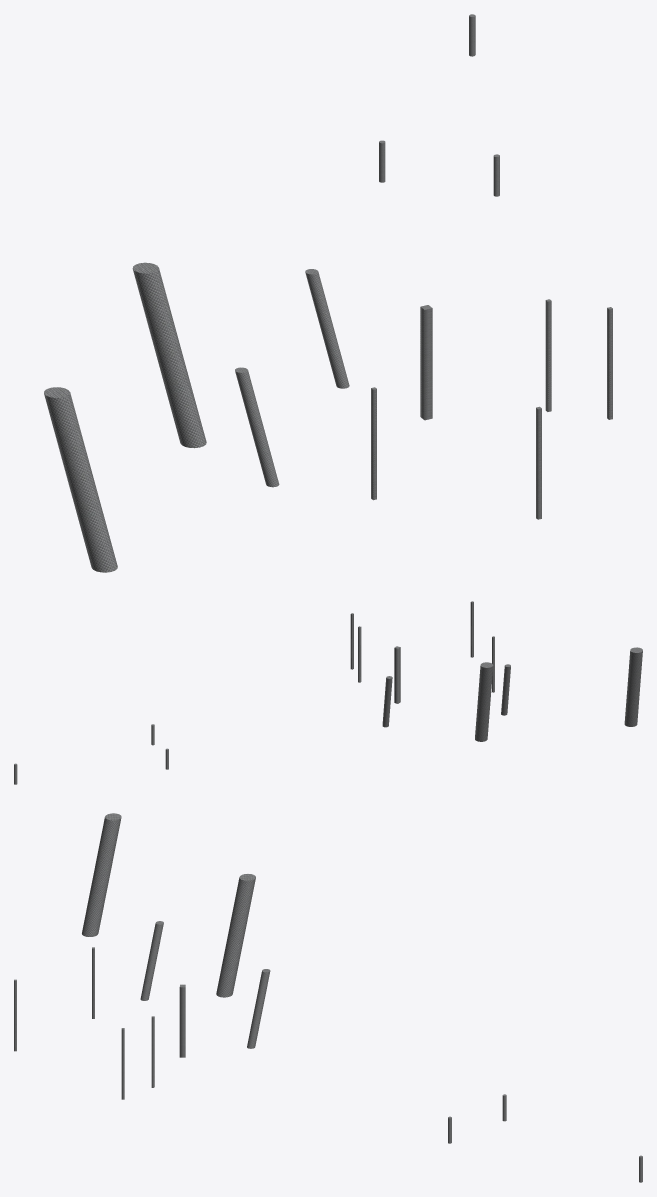
The model's file is SMALLER COLUMNS.fbx.
3 renders of one model, top to bottom at view 1: azimuth 30°, elevation 25°; view 2: azimuth 150°, elevation 25°; view 3: azimuth 270°, elevation 25°, orthographic. The views are drawn at different scales.
Visible parts, largest first — view 1: Carbon Fiber Columns; view 2: Carbon Fiber Columns; view 3: Carbon Fiber Columns.
Boxes of the visible parts, bbox=[...] form: Carbon Fiber Columns: bbox=[44, 14, 612, 572]; Carbon Fiber Columns: bbox=[14, 601, 642, 784]; Carbon Fiber Columns: bbox=[14, 813, 642, 1182].
Bounding box in the file's own units: 75.93 × 14.52 × 76.89.
1 material, 1 textured.
